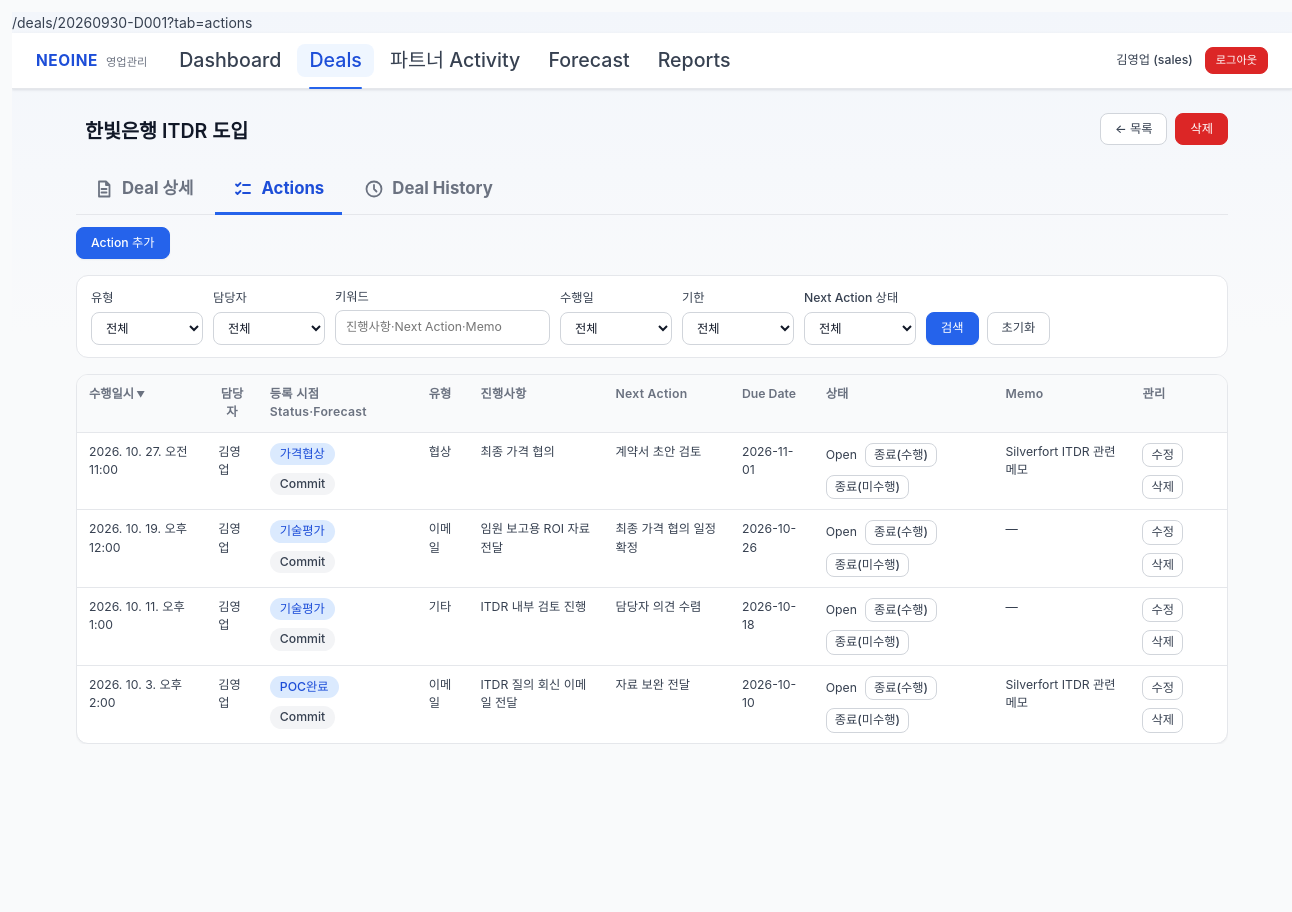
Test: Actions 탭 정렬과 검색 (AC1·AC11) › clears the condition on reset but keeps the sort
Expected: the heading "한빛은행 ITDR 도입" is shown, [76, 113, 257, 150]
Click the button "담당자".
click(232, 403)  # box [218, 385, 246, 422]
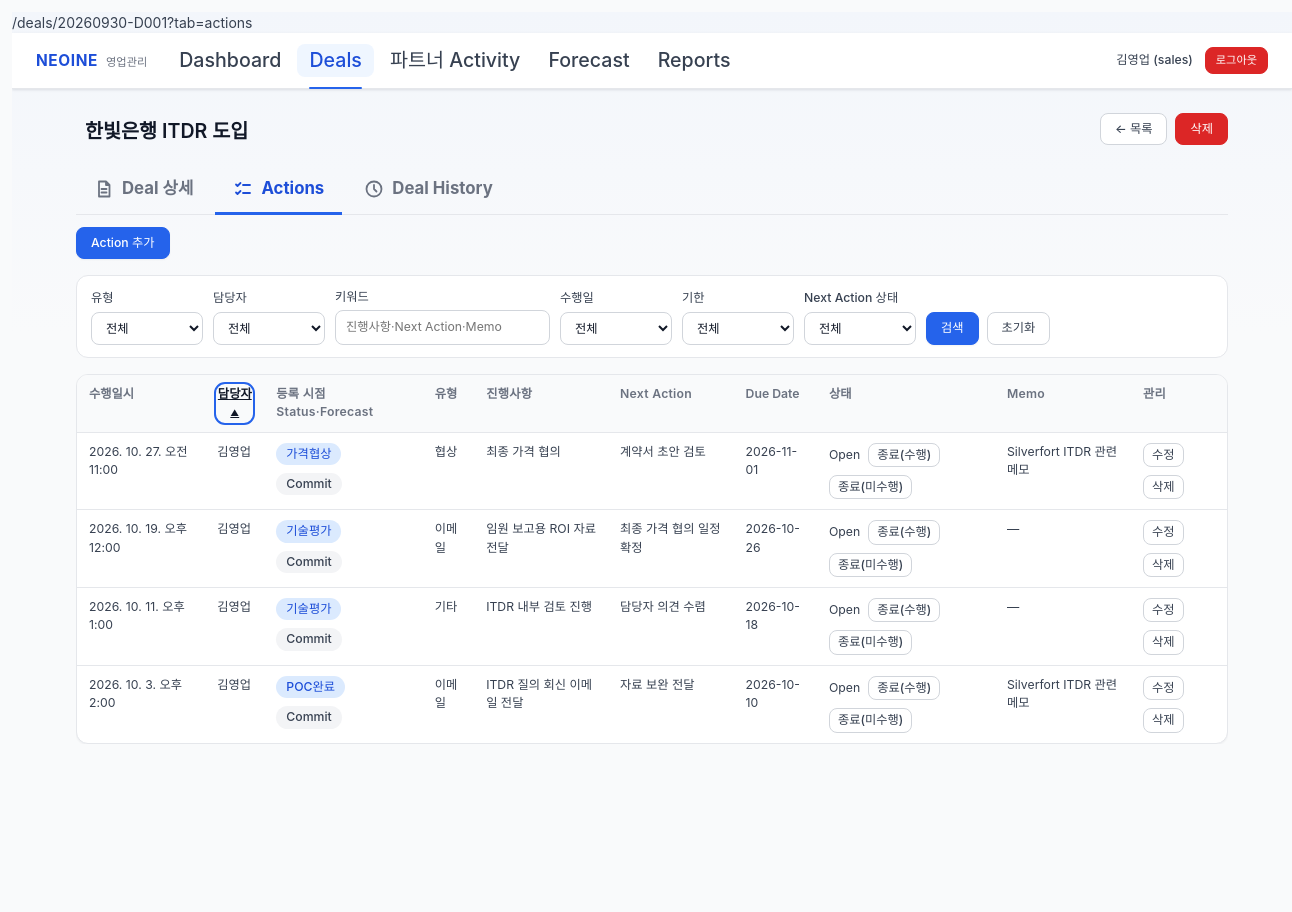
Type "ROI" into the field labelled "키워드".
click(442, 328); type("ROI")  # box [335, 310, 550, 345]
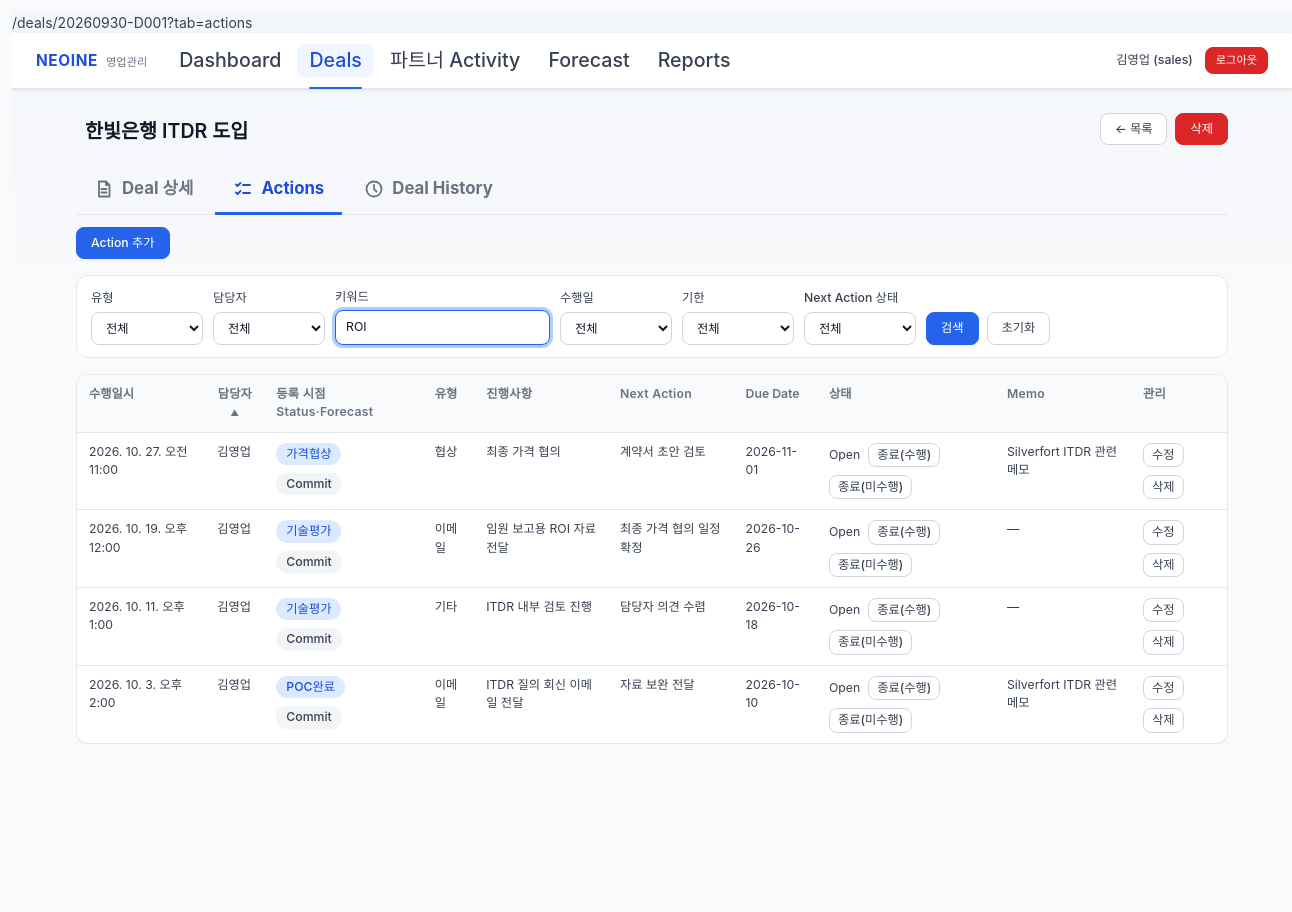
Click the button "검색".
click(952, 329)  # box [926, 312, 978, 345]
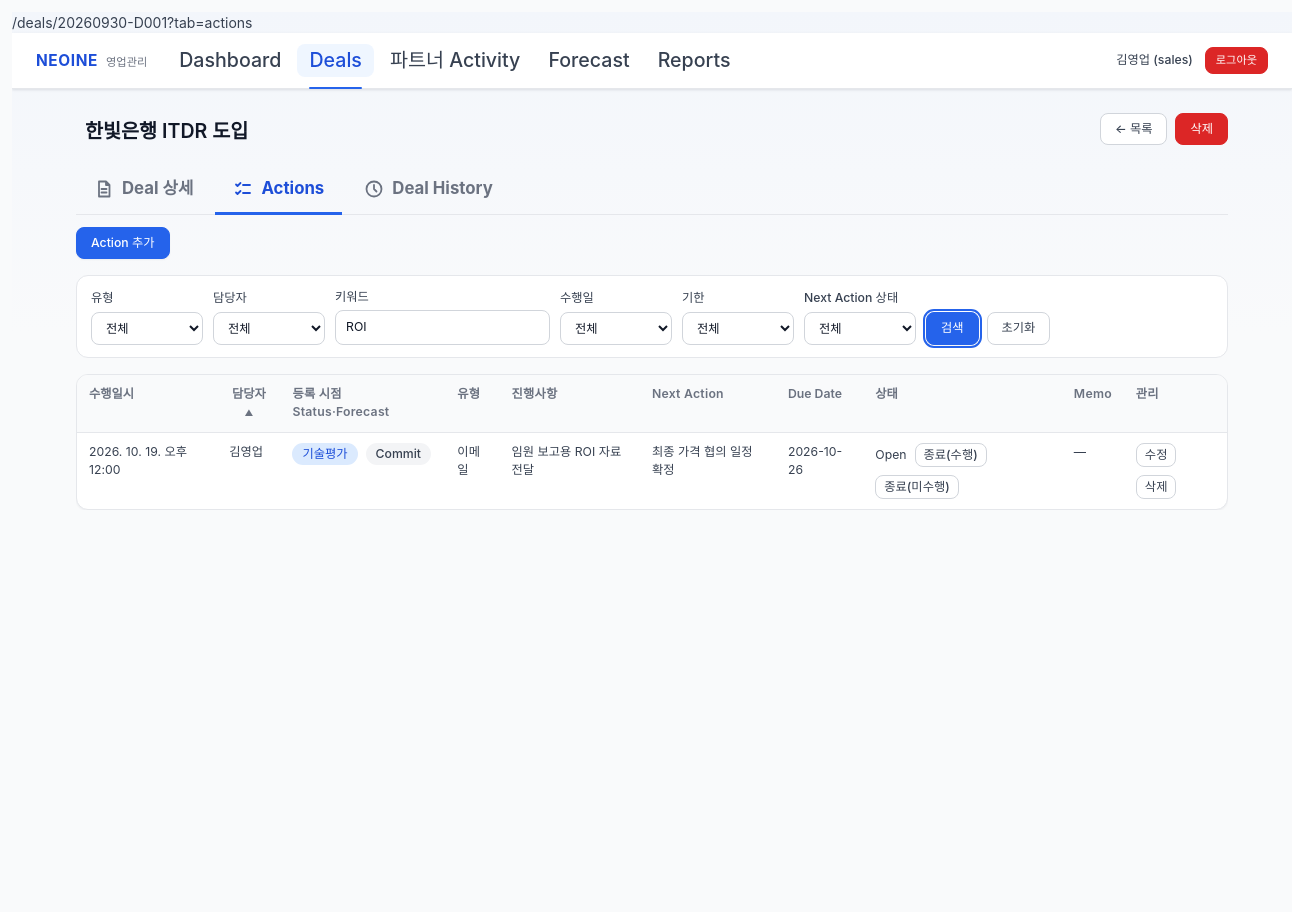
Click the button "초기화".
click(1018, 329)  # box [986, 312, 1050, 345]
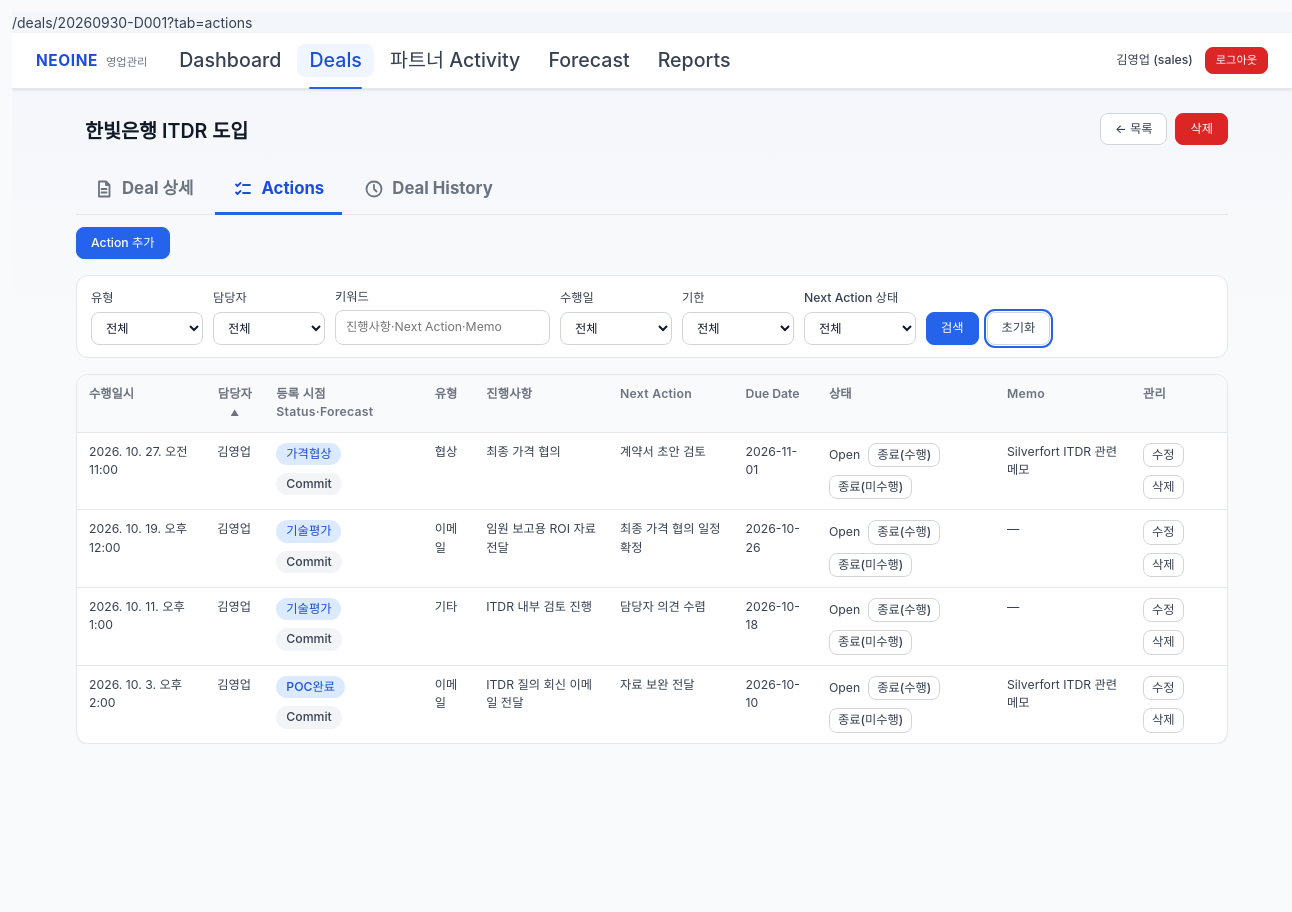
Now the field labelled "키워드" is empty, box [335, 310, 550, 345]
